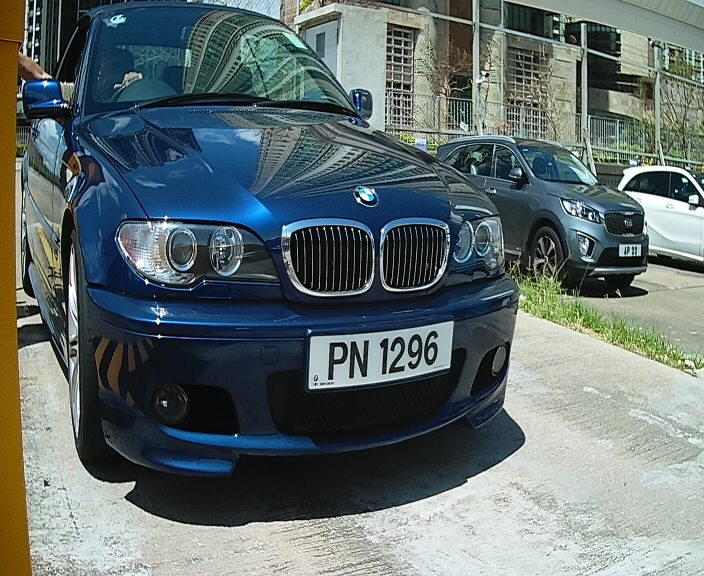Car: (19, 8, 530, 502)
License Plate: (300, 322, 462, 397)
